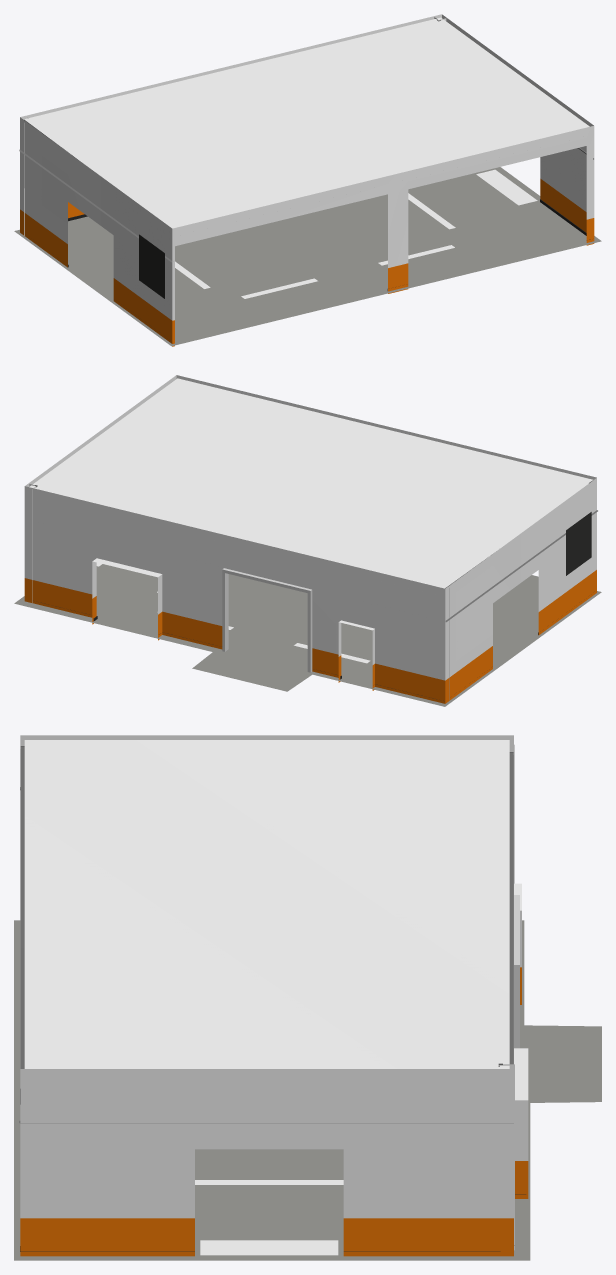
File: SM_H_Building_Tide_Examinationroom_01_ATLAS.fbx
3 renders of one model, top to bottom at view 1: azimuth 30°, elevation 25°; view 2: azimuth 150°, elevation 25°; view 3: azimuth 270°, elevation 25°, orthographic. The views are drawn at different scales.
Visible parts, largest first — view 1: SM_H_Building_Tide_Examinationroom_01_ATLAS; view 2: SM_H_Building_Tide_Examinationroom_01_ATLAS; view 3: SM_H_Building_Tide_Examinationroom_01_ATLAS.
Boxes of the visible parts, x1,y1,x2,y2 form: SM_H_Building_Tide_Examinationroom_01_ATLAS: [14, 14, 601, 346]; SM_H_Building_Tide_Examinationroom_01_ATLAS: [14, 375, 601, 706]; SM_H_Building_Tide_Examinationroom_01_ATLAS: [14, 735, 601, 1260].
Size of the model in its own units: 1975 by 1441 by 518.
